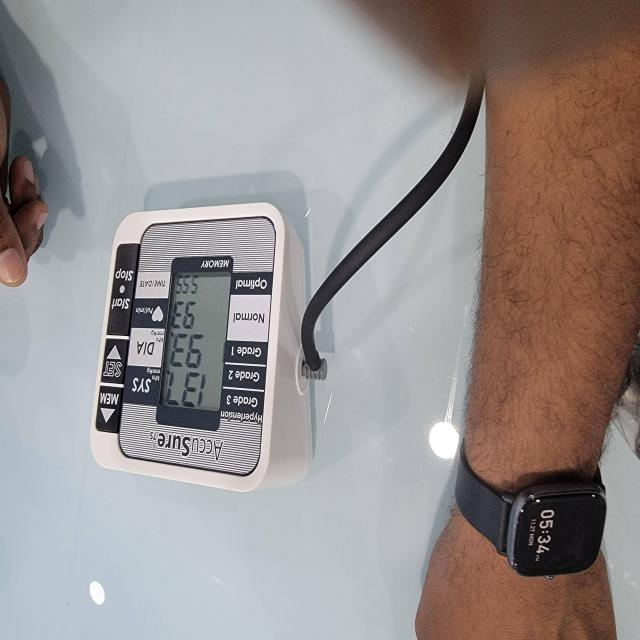bp: (86, 206, 328, 494)
